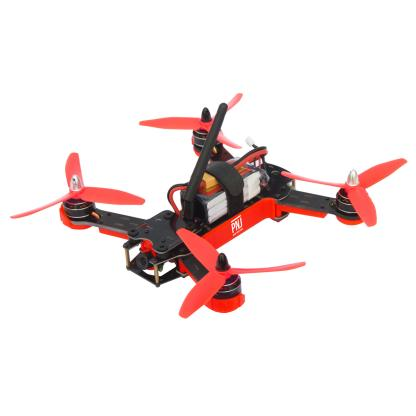drone: (25, 91, 403, 304)
